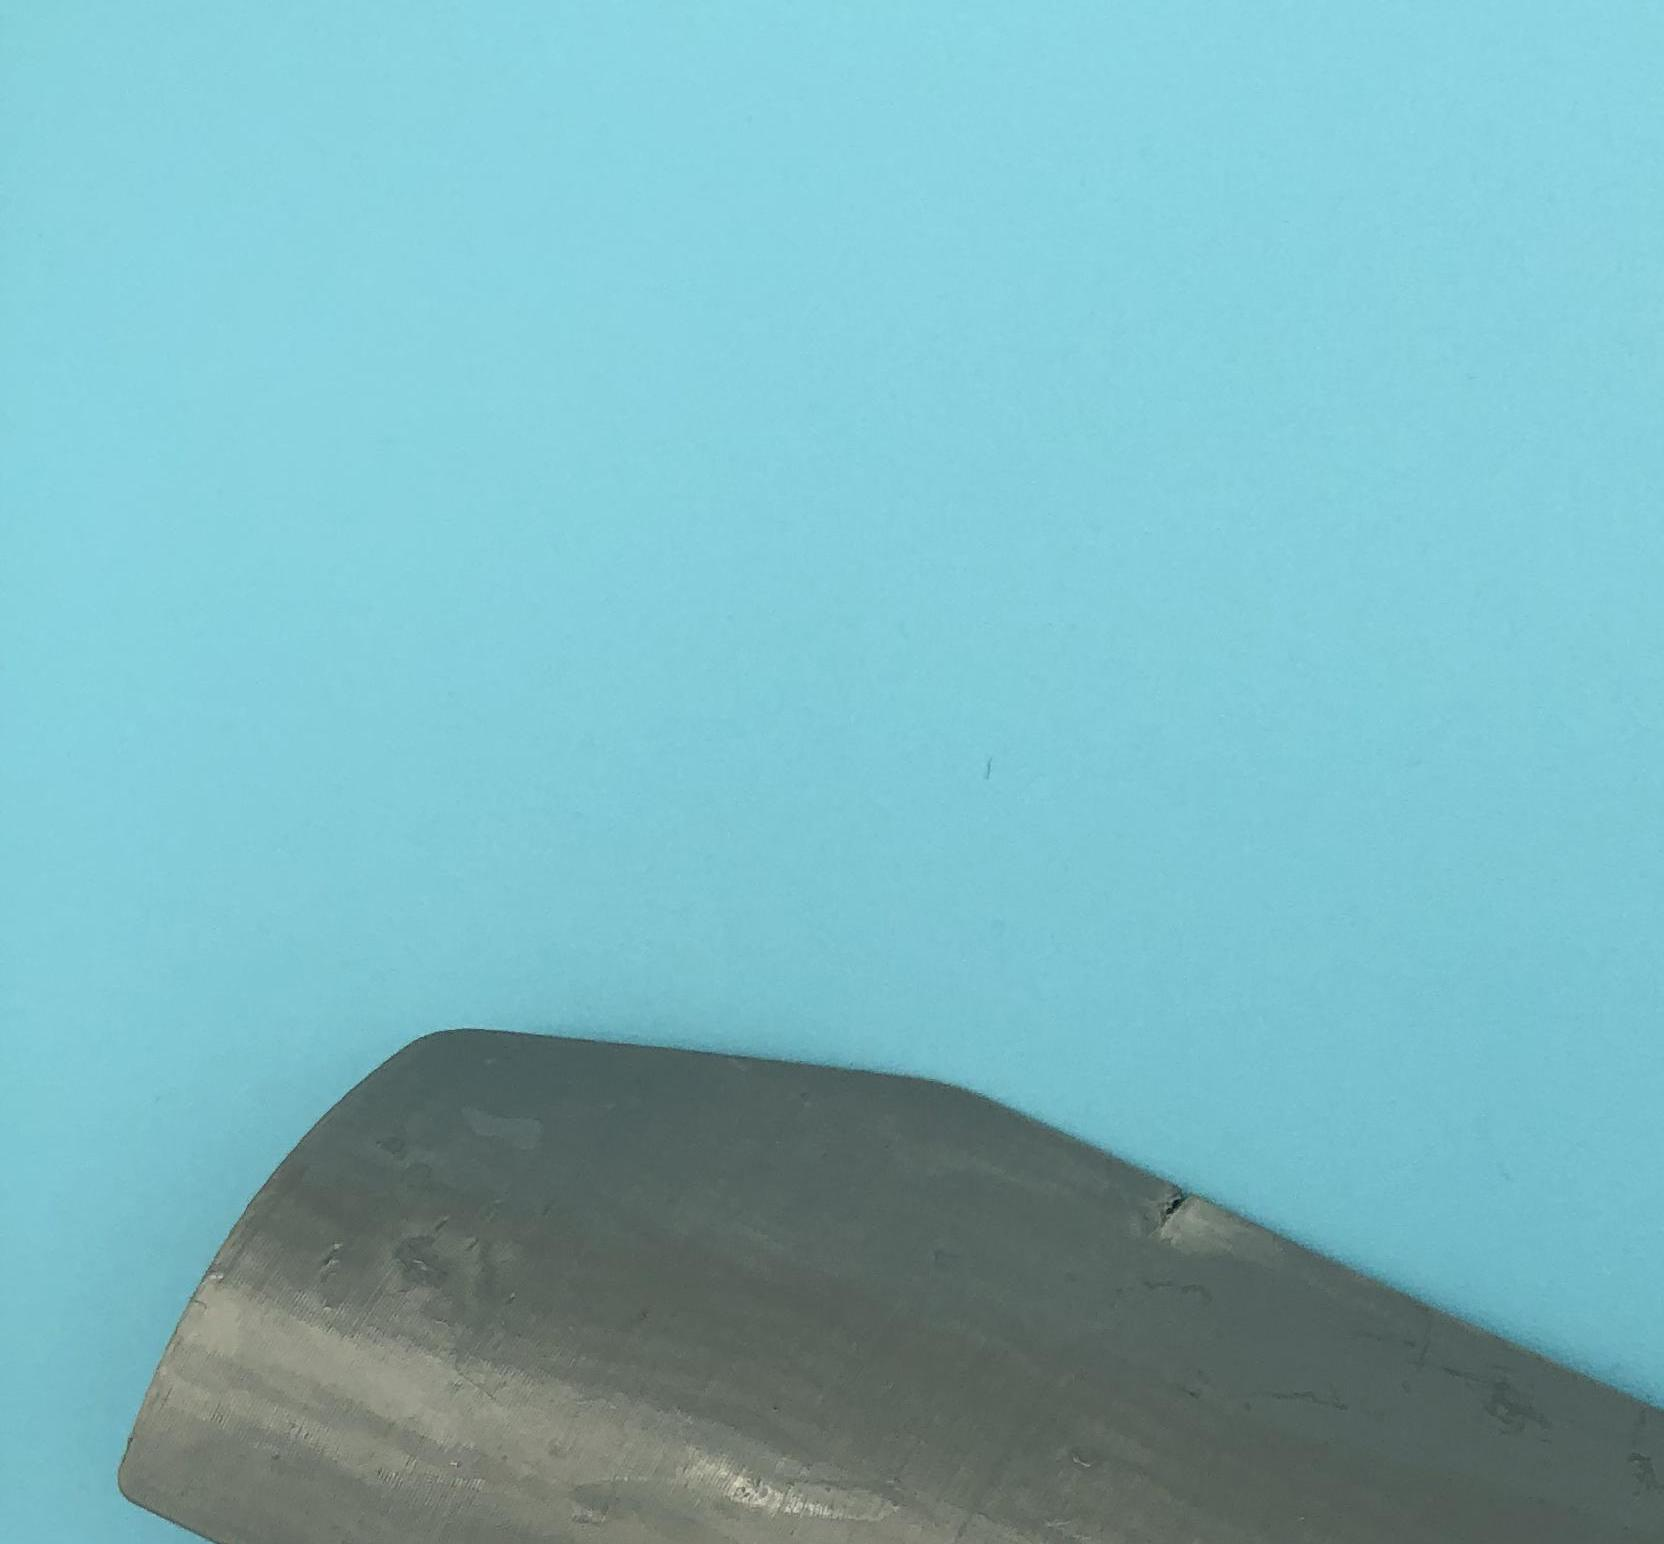groove: (1145, 1173, 1222, 1247)
